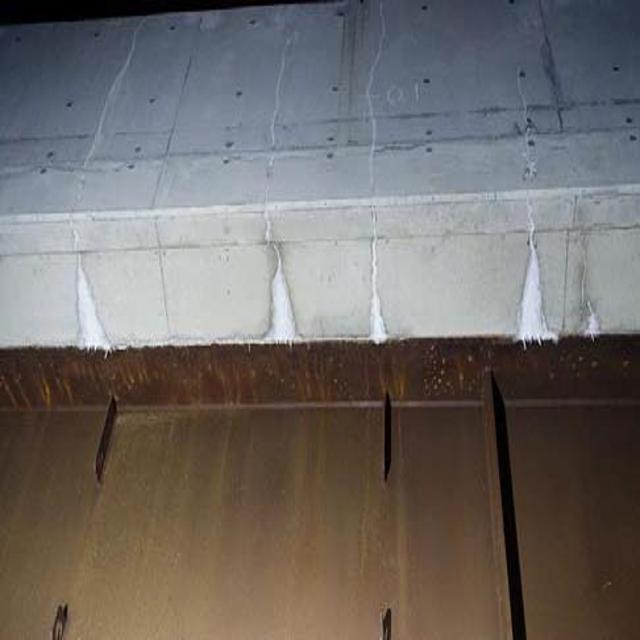freelime: (507, 236, 607, 343), (244, 243, 304, 356), (70, 246, 110, 364), (362, 247, 394, 350)
